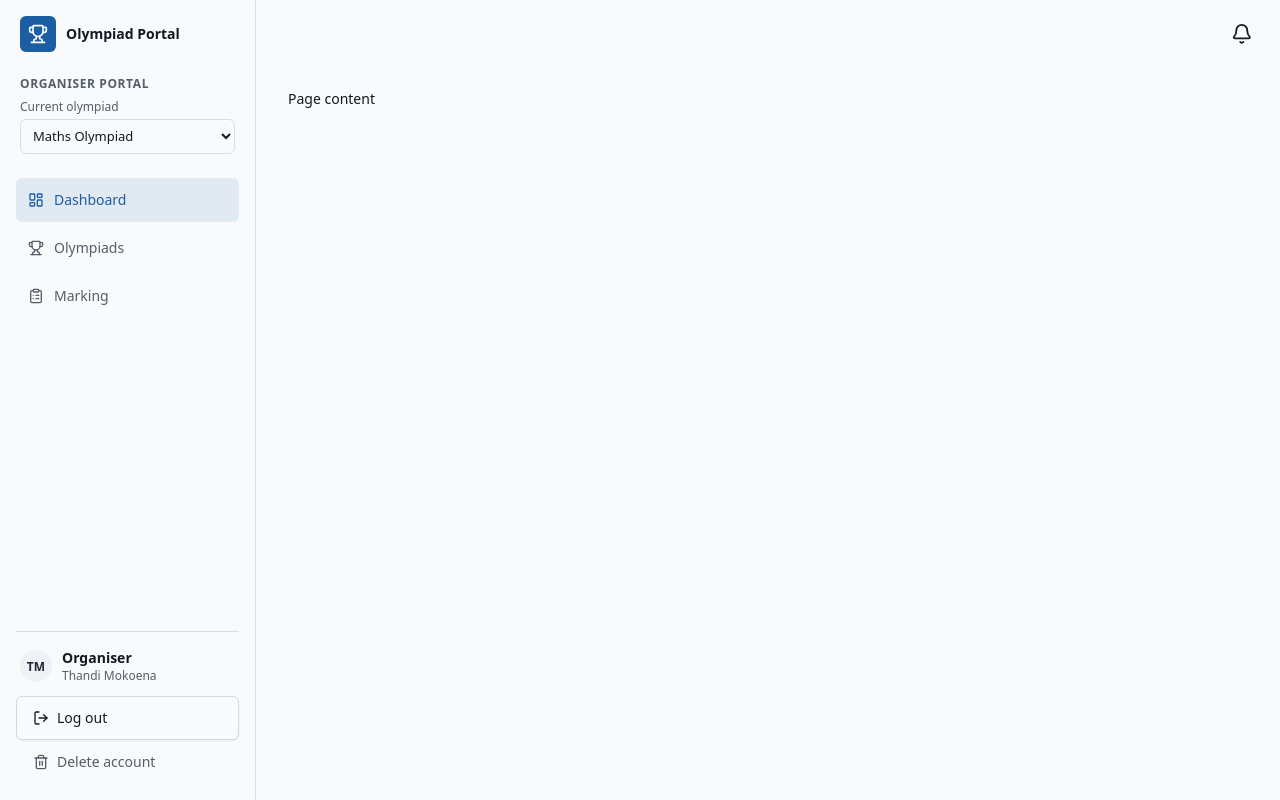
AppShell › collapses to icons from the logo, keeping every name readable, and expands again
Click the button with aria-label "Collapse sidebar": click(128, 34) left=16, top=16, right=239, bottom=52
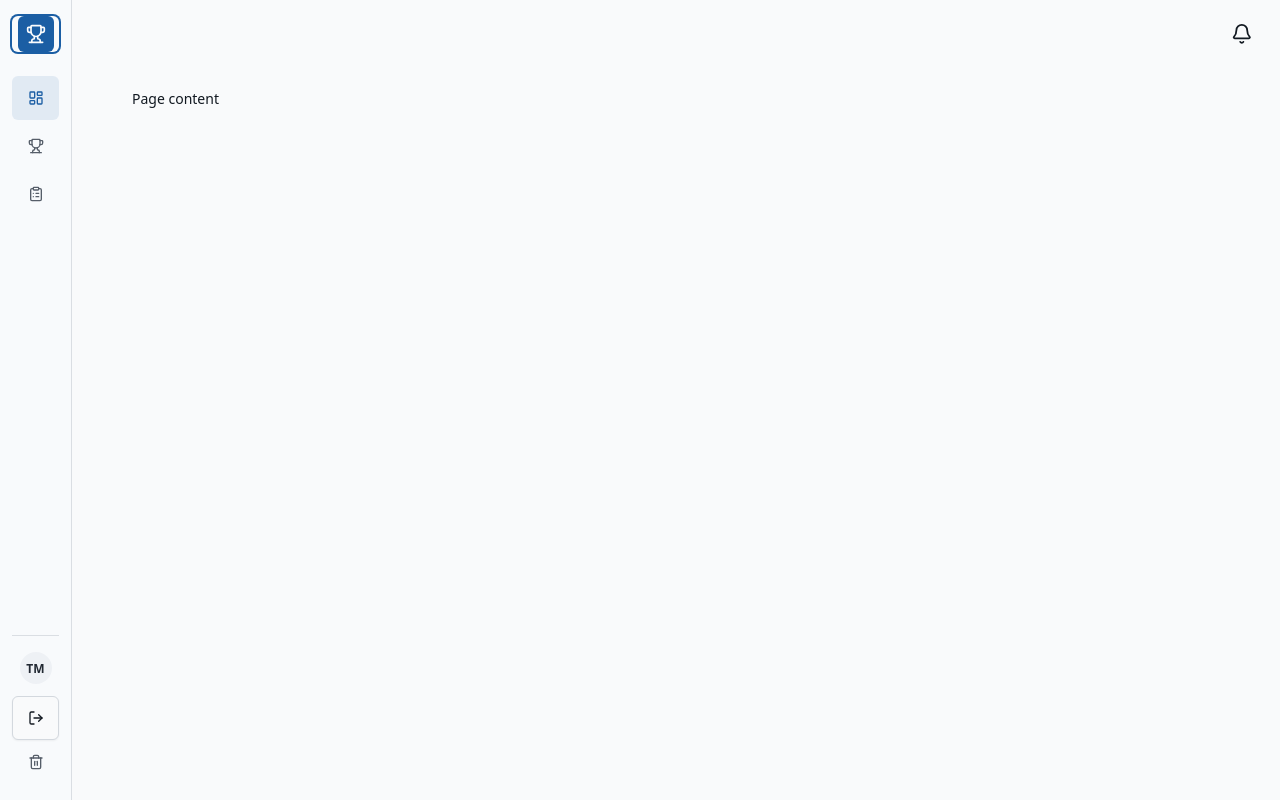
Expected: the button named "Expand sidebar" is collapsed
Click the button named "Expand sidebar": click(36, 34) left=12, top=16, right=59, bottom=52
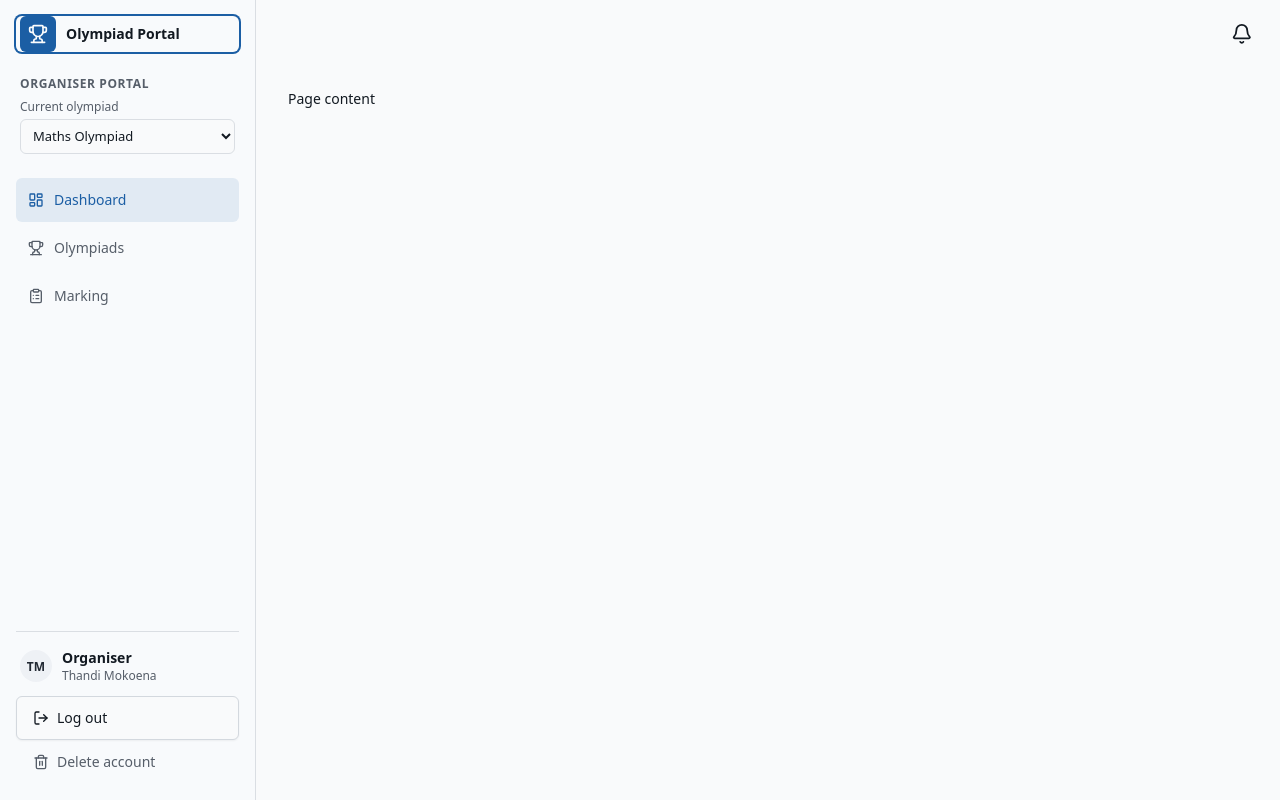
Expected: the button with aria-label "Collapse sidebar" is expanded, left=16, top=16, right=239, bottom=52
